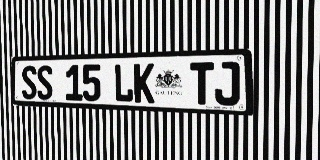1: (65, 65, 83, 101)
5: (83, 64, 101, 101)
J: (215, 61, 240, 106)
K: (134, 63, 154, 103)
L: (114, 64, 133, 102)
S: (37, 65, 53, 100), (21, 65, 37, 99)
T: (190, 62, 214, 105)
